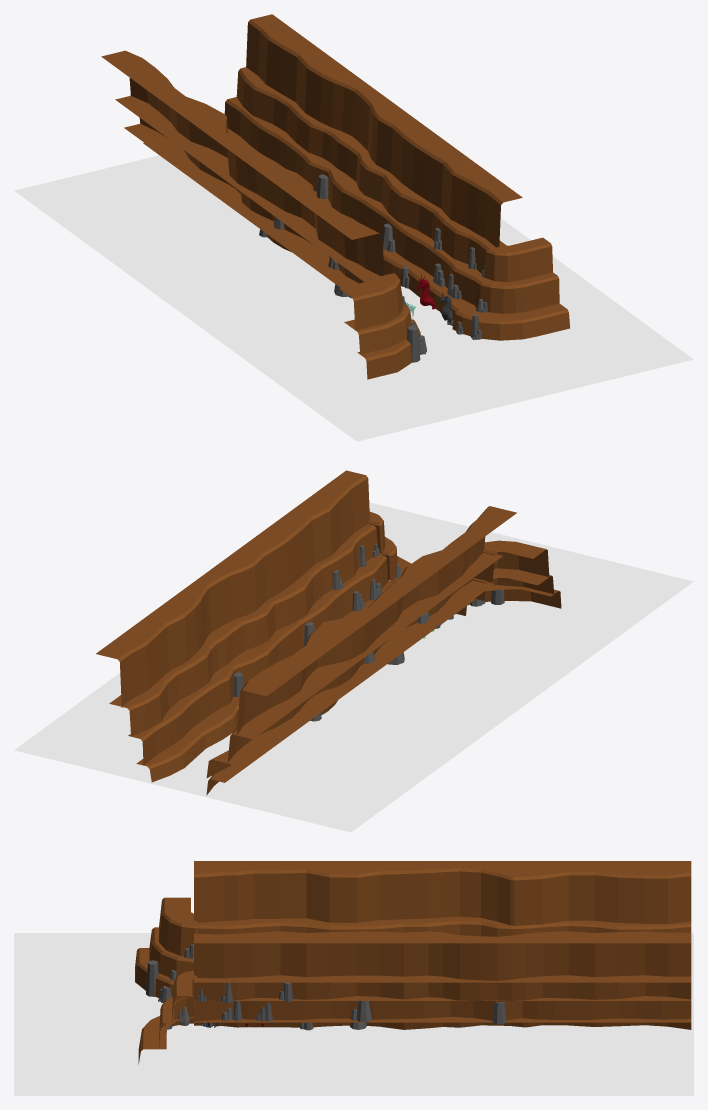
The model's file is dragon_statue.fbx.
3 renders of one model, top to bottom at view 1: azimuth 30°, elevation 25°; view 2: azimuth 150°, elevation 25°; view 3: azimuth 270°, elevation 25°, orthographic.
Visible parts, largest first — view 1: Plane.003, Plane.025, Plane.002, Cylinder; view 2: Plane.025, Plane.003, Plane.002, Cylinder; view 3: Plane.025, Plane.003, Plane.002, Cylinder.
Part boxes in pixels (x1,y1,x2,y2): Plane.003: (14,155,693,441); Plane.025: (101,14,522,319); Plane.002: (339,237,569,379); Cylinder: (259,174,487,362); Plane.025: (96,470,516,795); Plane.003: (14,502,693,832); Plane.002: (368,511,561,615); Cylinder: (233,543,504,721); Plane.025: (194,861,691,1029); Plane.003: (14,933,693,1095); Plane.002: (135,897,197,1064); Cylinder: (146,944,506,1030).
Size of the model in its own units: 3167 by 1044 by 5582.
